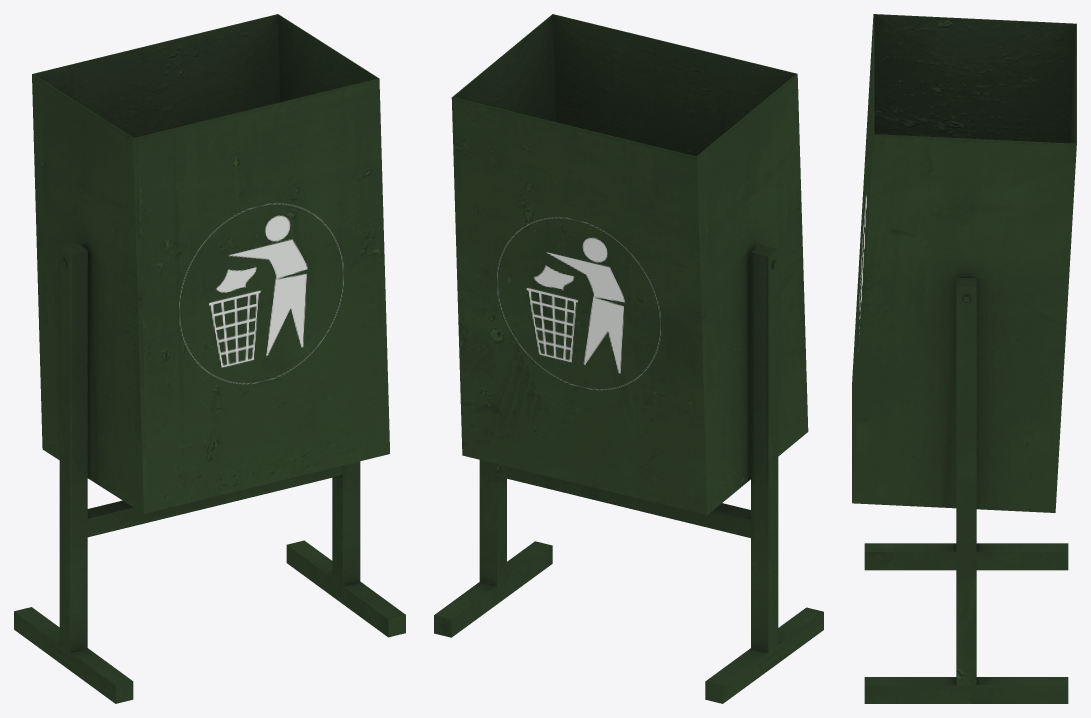
File: bin.glb
The picture shows the model from 3 angles, left to right: view 1: azimuth 30°, elevation 25°; view 2: azimuth 150°, elevation 25°; view 3: azimuth 270°, elevation 25°; orthographic projection.
Visible parts, largest first — view 1: bin; view 2: bin; view 3: bin.
Part boxes in pixels (box(x1,y1,x2,y2)): bin: box(14, 14, 405, 703); bin: box(434, 14, 823, 703); bin: box(852, 14, 1076, 703).
Size of the model in its own units: 0.3333 by 0.605 by 0.2207.
1 material, 1 textured.
